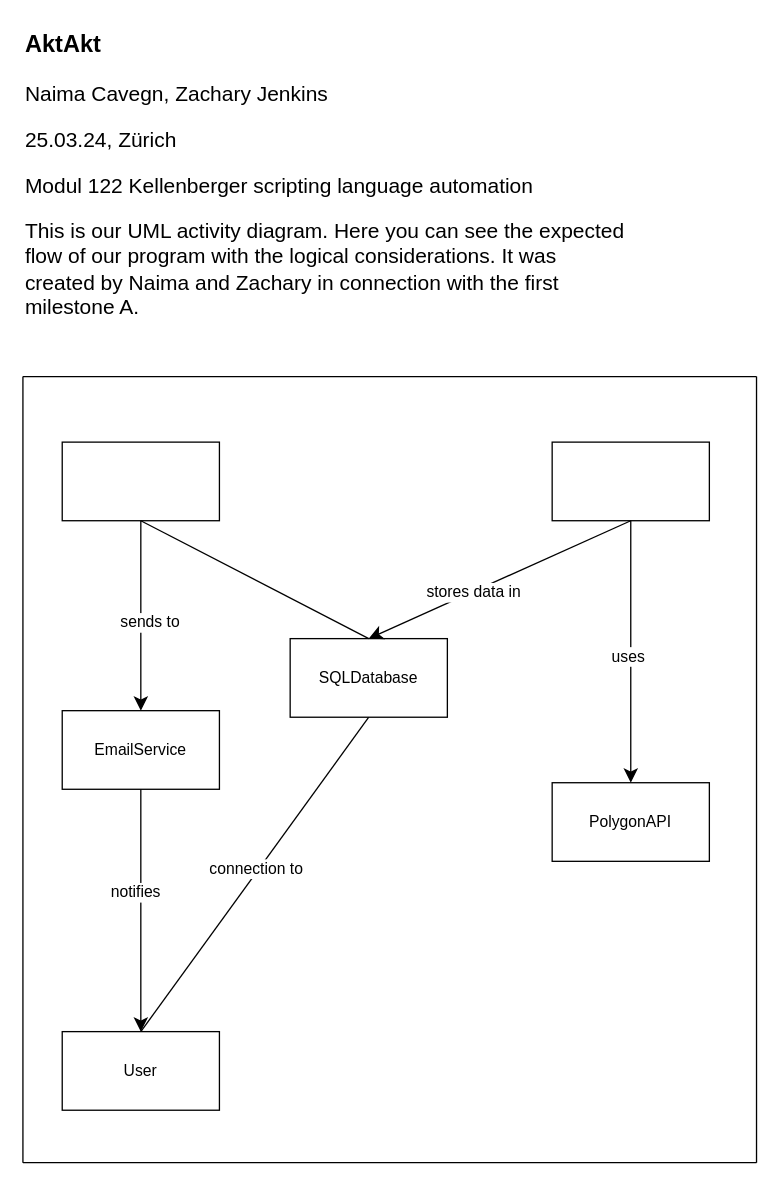
Some shapes in this 781 by 1187 pixel diagram are drawn without their labels. Each missing label, with the centre of its shape:
EmailNotifier: (x=140, y=481)
StockChecker: (x=630, y=481)
